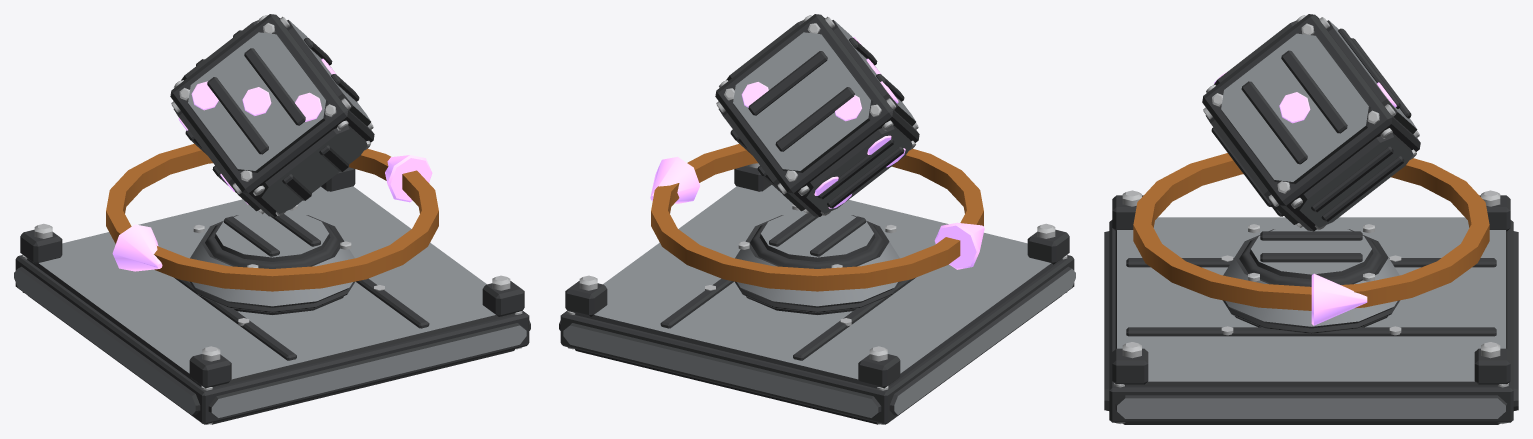
File: R4X_RewardReroll.fbx
3 views of the same model, side by side, from view 1: azimuth 30°, elevation 25°; view 2: azimuth 150°, elevation 25°; view 3: azimuth 270°, elevation 25° (orthographic). The views are drawn at different scales.
Visible parts, largest first — view 1: R4X_RewardReroll_Body, R4X_RewardReroll_Die; view 2: R4X_RewardReroll_Body, R4X_RewardReroll_Die; view 3: R4X_RewardReroll_Body, R4X_RewardReroll_Die.
Boxes of the visible parts, x1,y1,x2,y2 form: R4X_RewardReroll_Body: (14, 143, 530, 424); R4X_RewardReroll_Die: (170, 14, 374, 216); R4X_RewardReroll_Body: (559, 143, 1075, 424); R4X_RewardReroll_Die: (715, 14, 919, 216); R4X_RewardReroll_Body: (1104, 153, 1518, 424); R4X_RewardReroll_Die: (1202, 14, 1420, 231).
Size of the model in its own units: 0.52 by 0.454 by 0.52.
